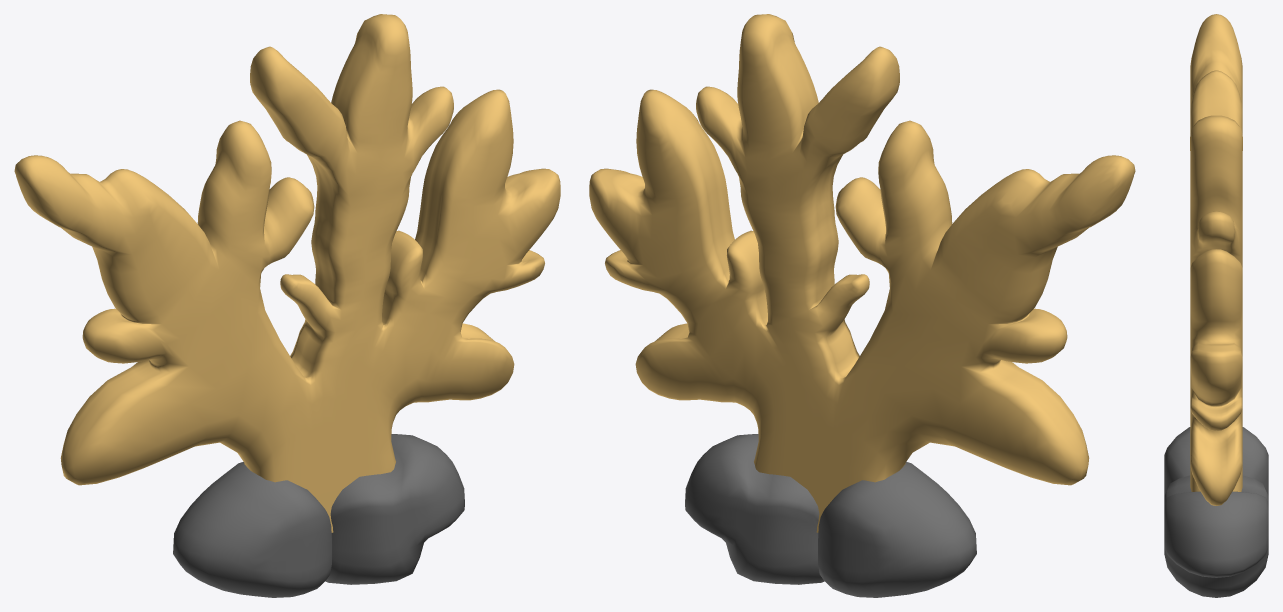
File: Coral_Fuego.fbx
The picture shows the model from 3 angles, left to right: view 1: azimuth 30°, elevation 25°; view 2: azimuth 150°, elevation 25°; view 3: azimuth 270°, elevation 25°; orthographic projection. The views are drawn at different scales.
Parts seen in each view (by area): view 1: CoralFuego1, Roca; view 2: CoralFuego1, Roca; view 3: CoralFuego1, Roca.
Part boxes in pixels (x1,y1,x2,y2): CoralFuego1: (14,14,560,532); Roca: (173,434,464,597); CoralFuego1: (589,14,1135,532); Roca: (685,434,976,597); CoralFuego1: (1190,14,1242,505); Roca: (1164,427,1268,597).
Bounding box in the file's own units: 5.47 × 5.41 × 1.07.
